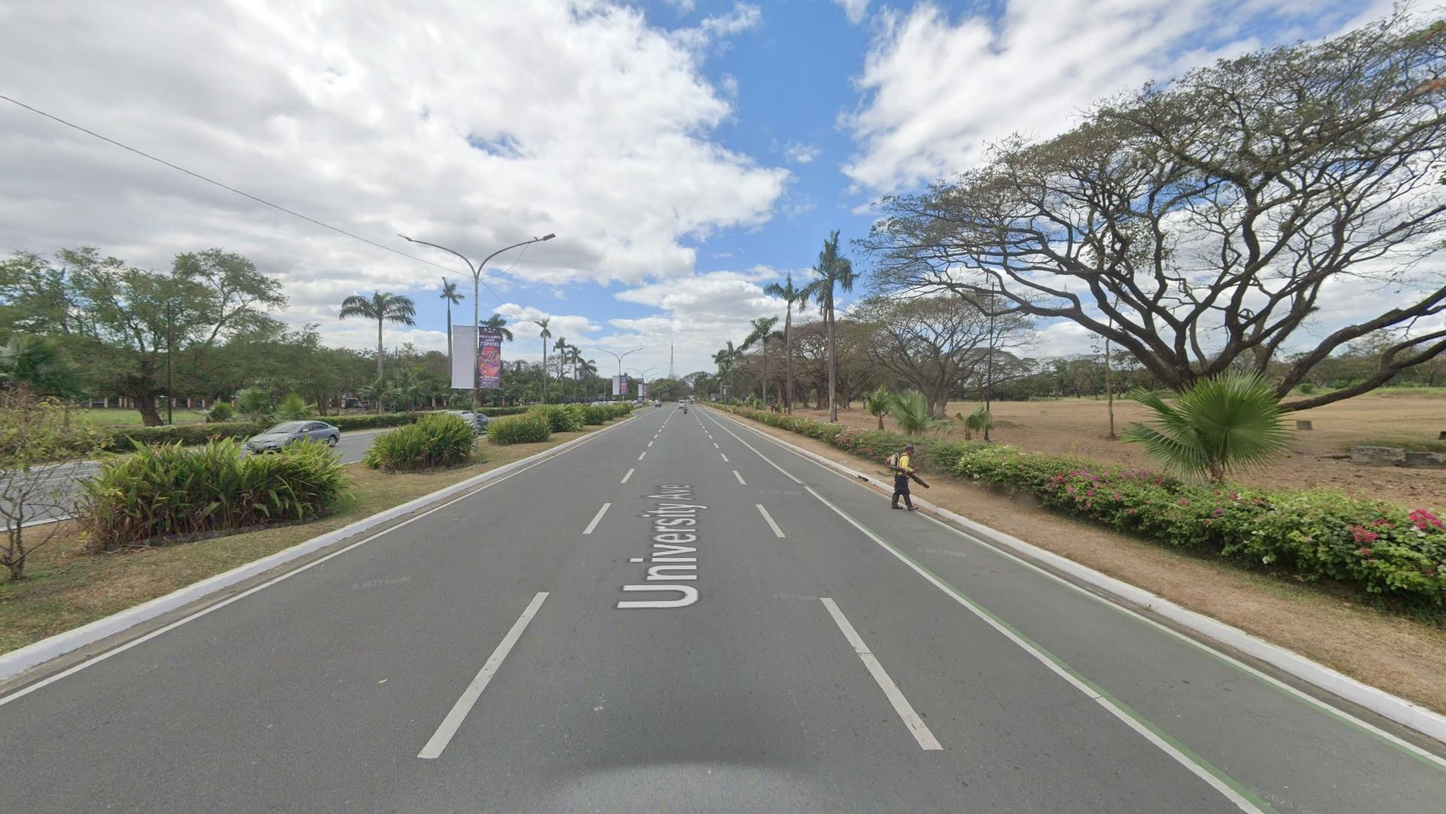pedestrian: (889, 445, 921, 512)
